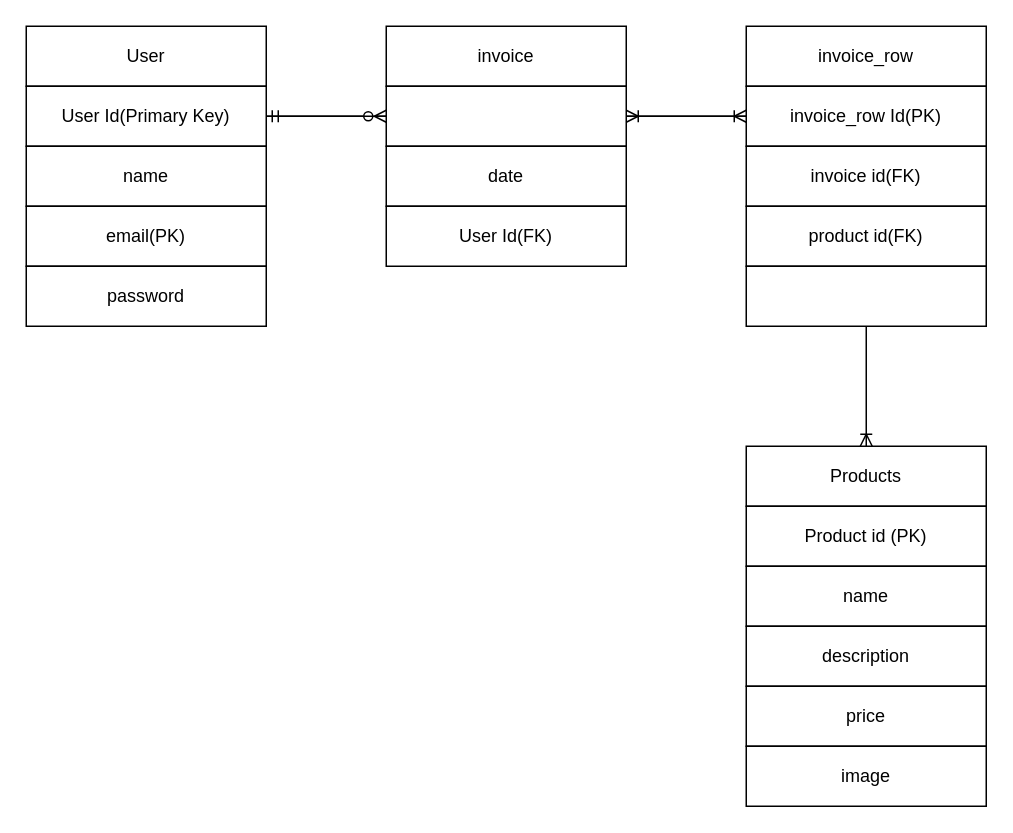
Image size: 1013x833. Some labels were removed from this diagram. The shapes that lost their labels are listed below. From the top down, each one's centre as x and y in pixels, then its label:
point (505, 115): invoice id (PK)
point (865, 295): quantity
